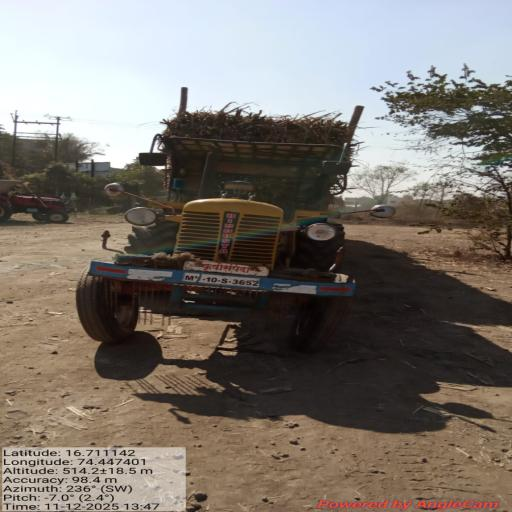number_plate: (170, 269, 280, 294)
